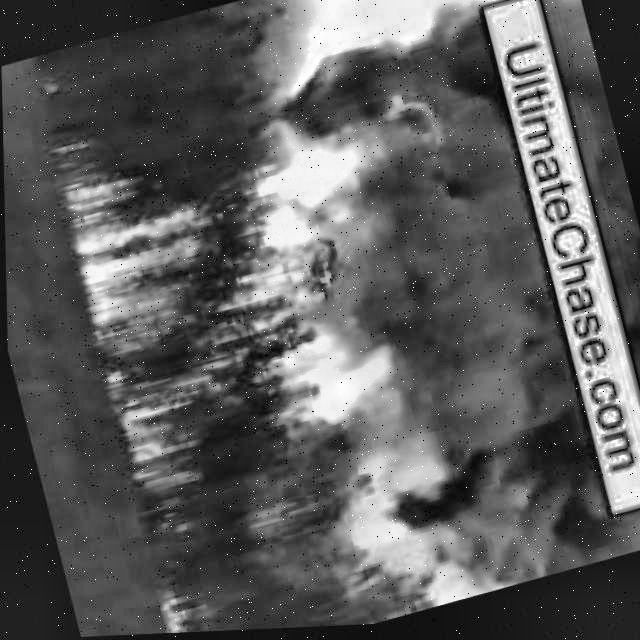Fire: (63, 123, 449, 499), (153, 581, 198, 635)
Smoke: (255, 0, 612, 624), (551, 0, 640, 546)
